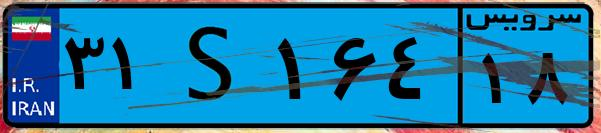1: (270, 28, 330, 110), (475, 38, 525, 113), (110, 28, 158, 98)
3: (57, 26, 110, 100)
4: (385, 28, 445, 110)
6: (330, 28, 385, 110)
8: (525, 38, 570, 115)
S: (158, 12, 270, 120)
